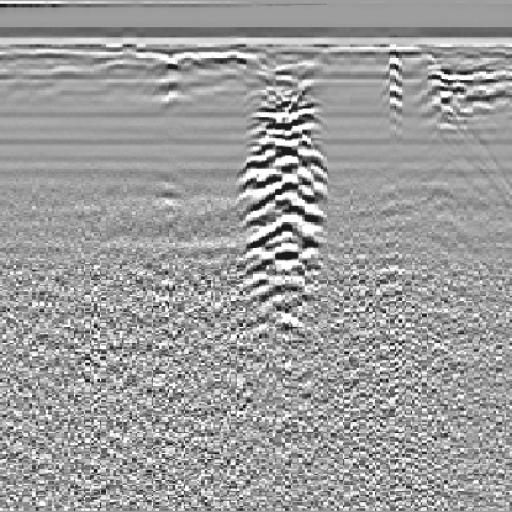metalic: (226, 67, 349, 362)
